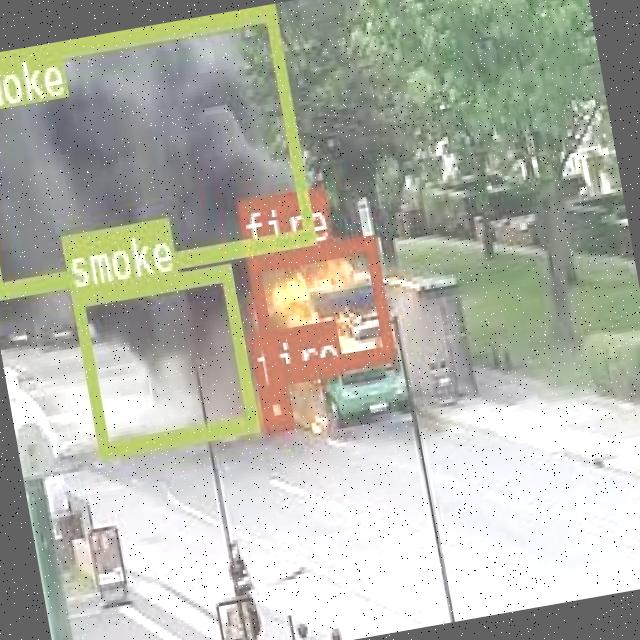fire: (244, 234, 394, 381), (256, 384, 292, 428)
smoke: (0, 3, 313, 294), (70, 262, 256, 456)
